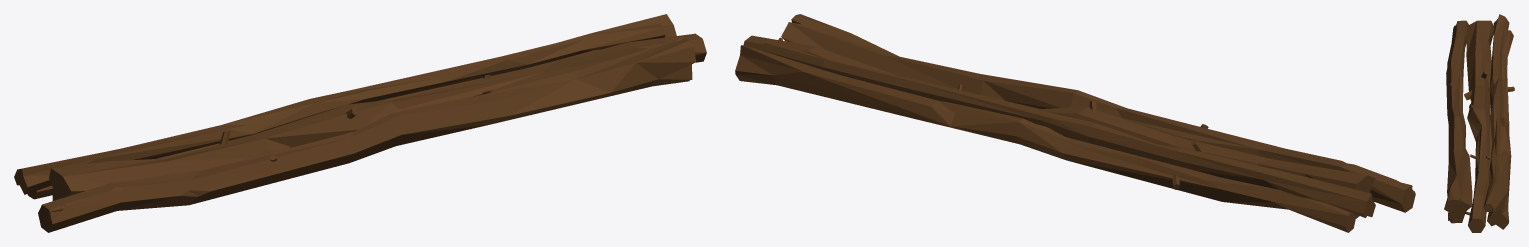
File: SM_Tree_Pine_Log_Pile_A.fbx
3 views of the same model, side by side, from view 1: azimuth 30°, elevation 25°; view 2: azimuth 150°, elevation 25°; view 3: azimuth 270°, elevation 25° (orthographic). The views are drawn at different scales.
Visible parts, largest first — view 1: tree-pine-log-pile-a; view 2: tree-pine-log-pile-a; view 3: tree-pine-log-pile-a.
Boxes of the visible parts, box(x1,y1,x2,y2) form: tree-pine-log-pile-a: box(14, 14, 706, 232); tree-pine-log-pile-a: box(735, 14, 1415, 232); tree-pine-log-pile-a: box(1444, 14, 1514, 232).
Bounding box in the file's own units: 7.83 × 0.4992 × 1.19.
